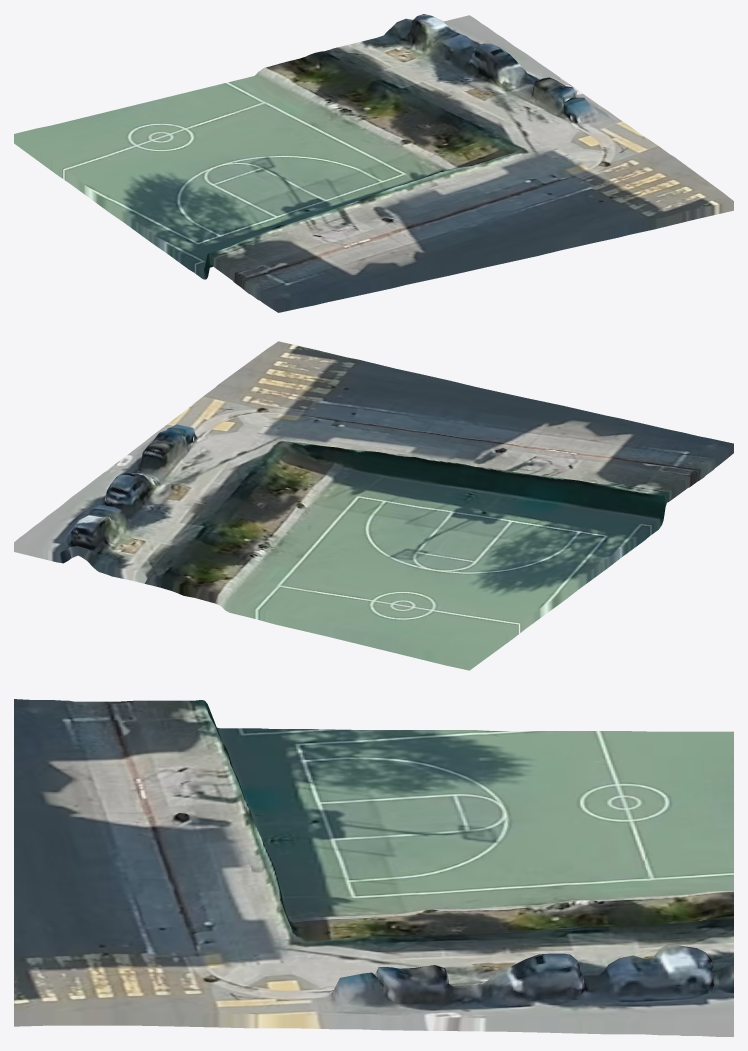
Rendered from z20-167738-405193-h0-yup-uvflip-v3-world.glb.
3 views of the same model, one above another, from view 1: azimuth 30°, elevation 25°; view 2: azimuth 150°, elevation 25°; view 3: azimuth 270°, elevation 25° (orthographic). The views are drawn at different scales.
Bounding box in the file's own units: 30.16 × 2.92 × 30.32.
Materials: 1 (1 with a texture image).
